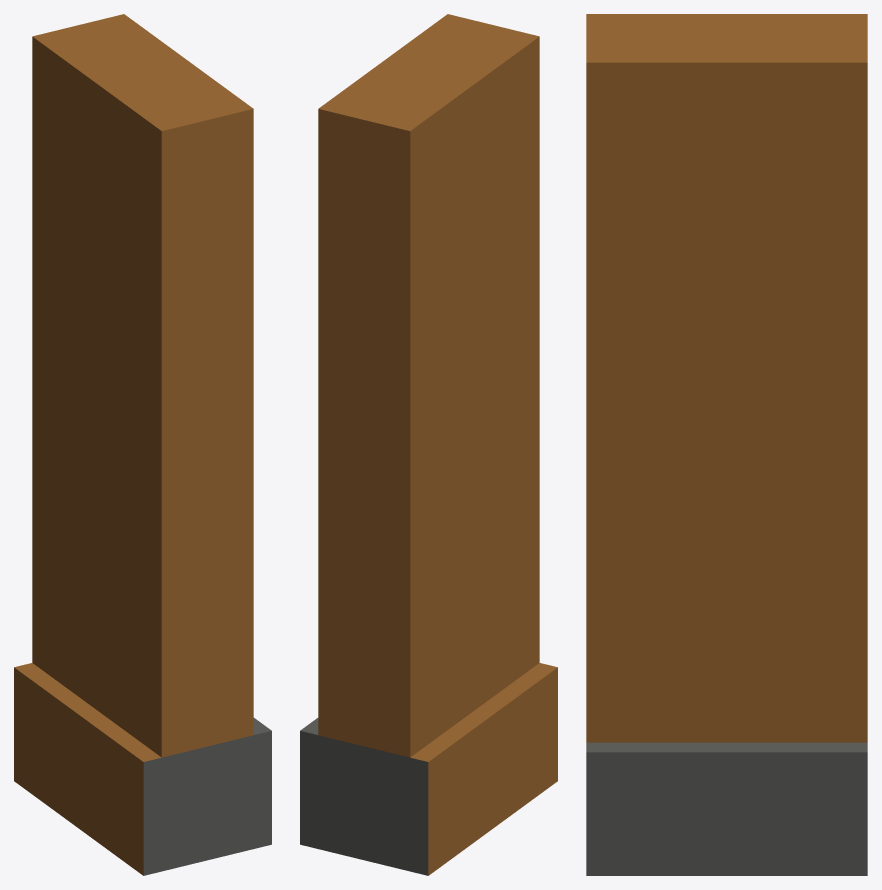
File: wall.fbx
3 views of the same model, side by side, from view 1: azimuth 30°, elevation 25°; view 2: azimuth 150°, elevation 25°; view 3: azimuth 270°, elevation 25° (orthographic). The views are drawn at different scales.
Parts seen in each view (by area): view 1: Cube; view 2: Cube; view 3: Cube.
Part boxes in pixels (<box>): Cube: <box>14,14,271,875</box>; Cube: <box>300,14,557,875</box>; Cube: <box>586,14,867,875</box>.
Size of the model in its own units: 114 by 631 by 200.
